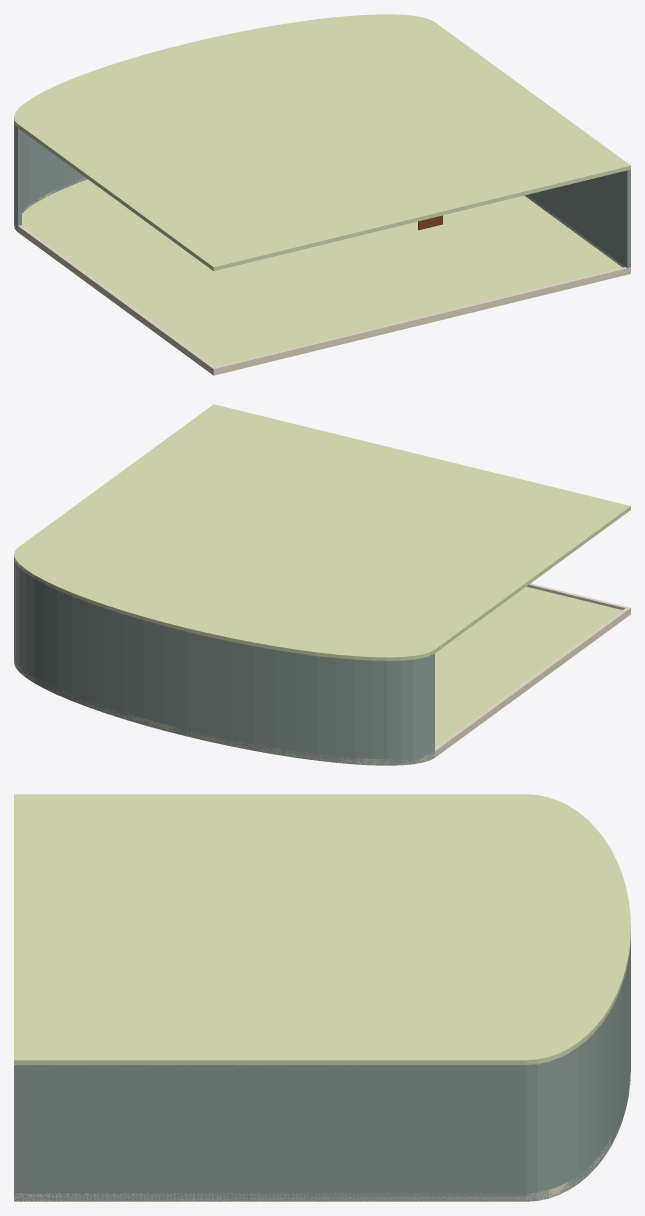
Rendered from MainMenuRoom.fbx.
3 renders of one model, top to bottom at view 1: azimuth 30°, elevation 25°; view 2: azimuth 150°, elevation 25°; view 3: azimuth 270°, elevation 25°, orthographic. The views are drawn at different scales.
Visible parts, largest first — view 1: Room; view 2: Room; view 3: Room.
Part boxes in pixels (left/top/right/bottom): Room: left=14, top=14, right=630, bottom=375; Room: left=14, top=404, right=630, bottom=765; Room: left=14, top=794, right=630, bottom=1201.
Size of the model in its own units: 1000 by 249 by 980.
